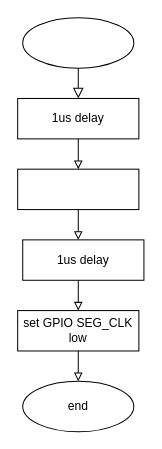
Image size: 162x449. Some labels were removed from this diagram. The box of each missing label's shape, as (x1, y1, x2, y2) in pixels:
SEG_clk_2us(): (22, 17, 134, 68)
set GPIO SEG_CLK high: (17, 168, 139, 210)
